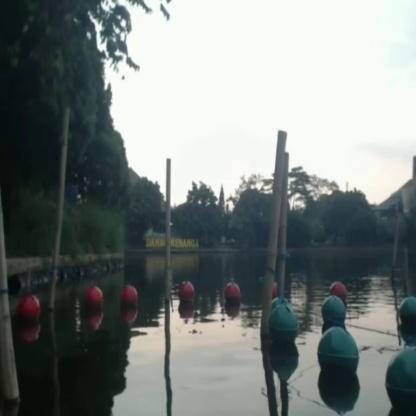green_buoy: (318, 326, 360, 384), (384, 343, 415, 410), (268, 303, 298, 345), (320, 295, 347, 326), (398, 296, 415, 331)
red_buoy: (16, 294, 41, 328), (84, 284, 104, 316), (118, 282, 139, 311), (223, 279, 242, 308), (179, 278, 196, 306), (330, 280, 347, 296)
